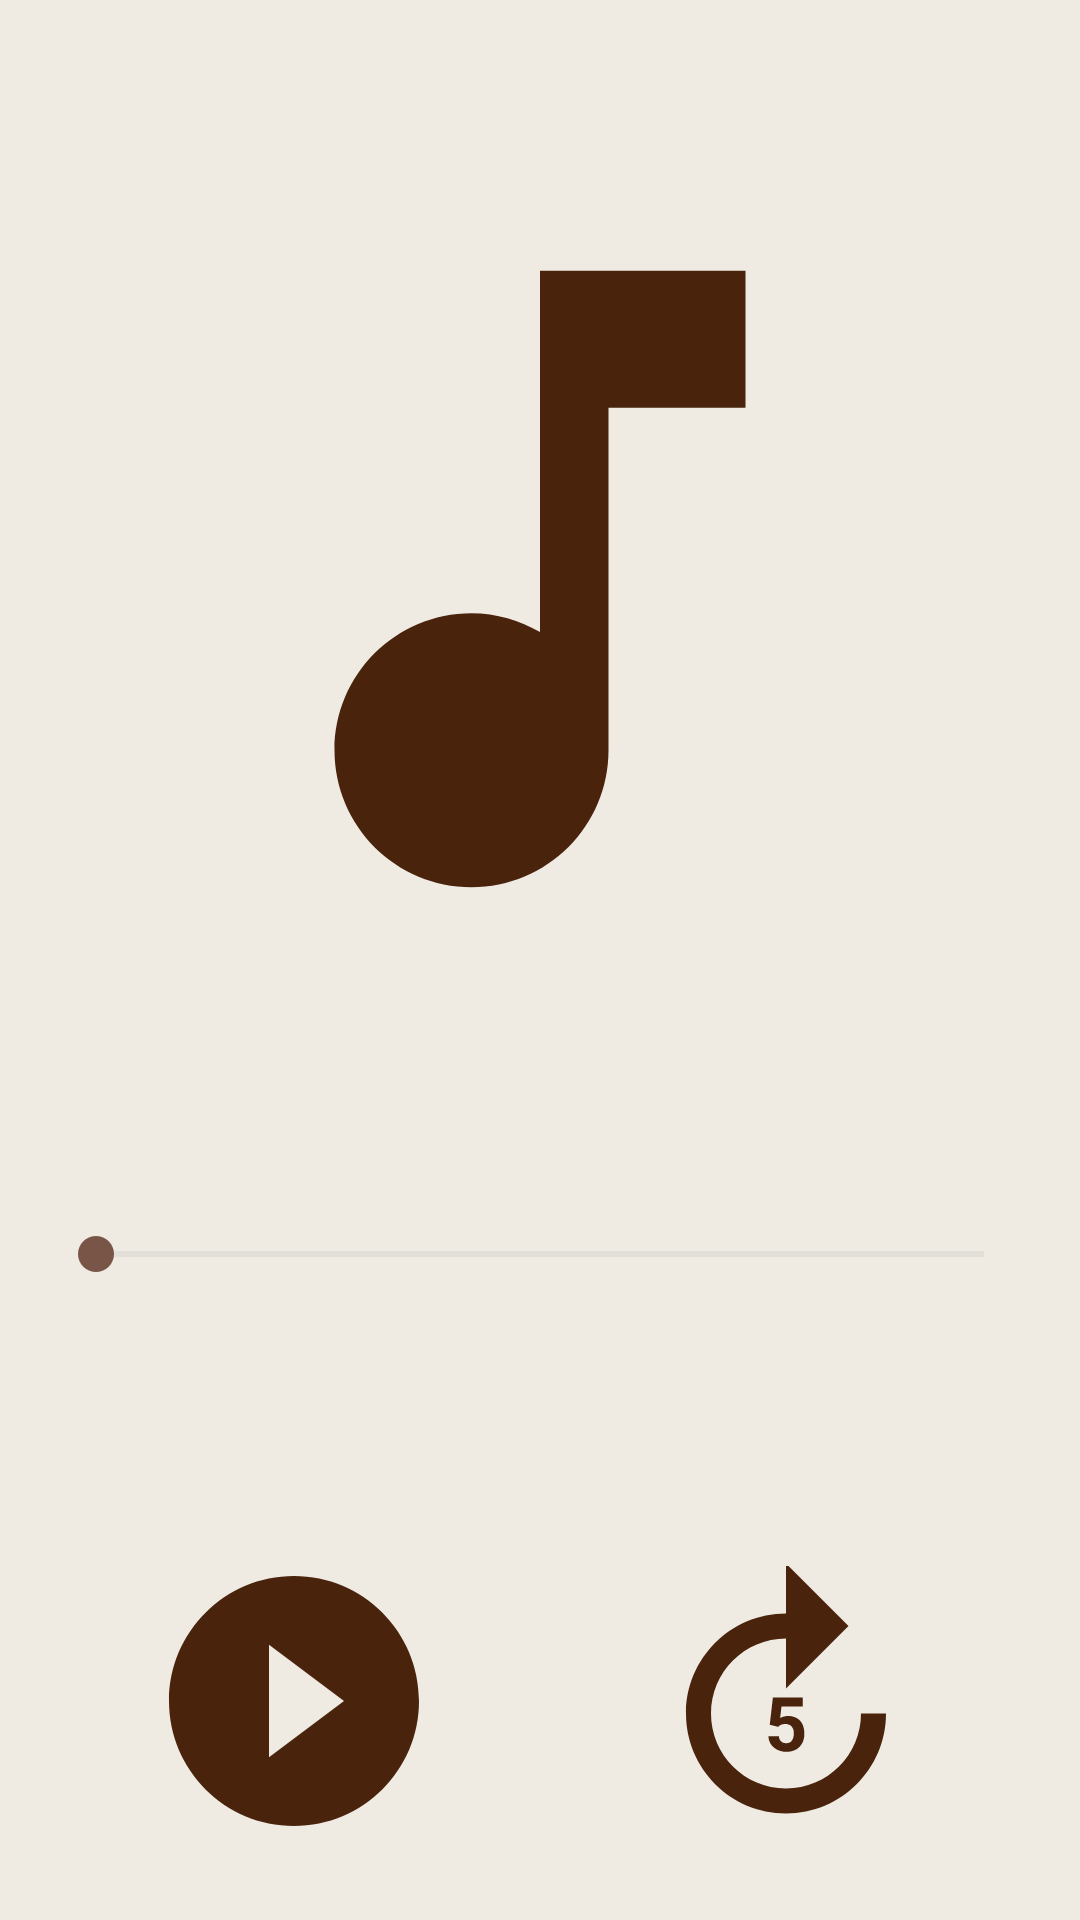

Where to tap for icons on this 1080*1920 app screen, as [x,y]:
adelantar: [786,1690]
play: [294,1701]
